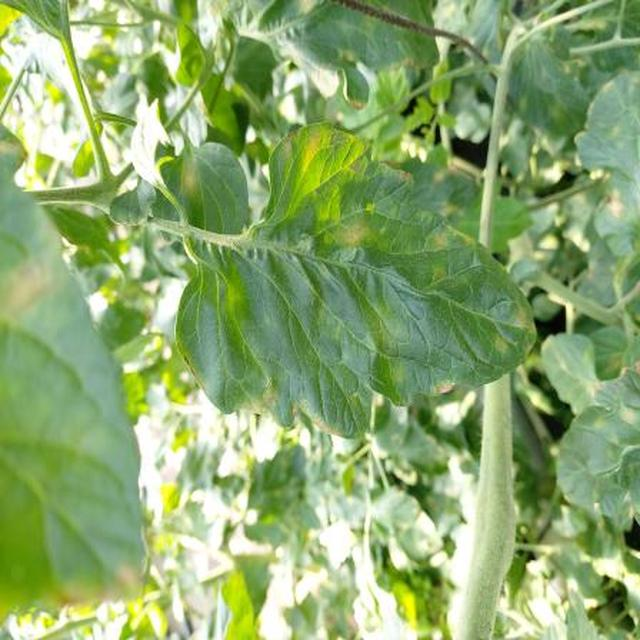Leaf Mold: (246, 170, 640, 626)
